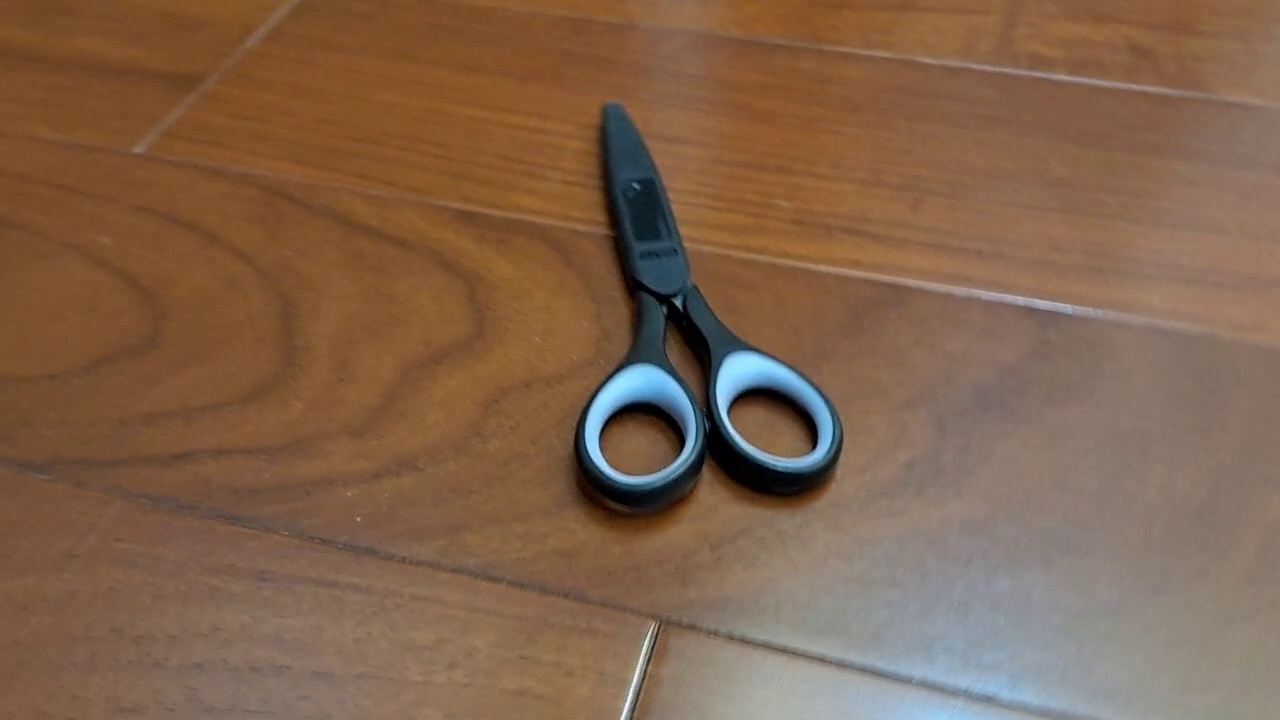scissors: (572, 100, 845, 511)
